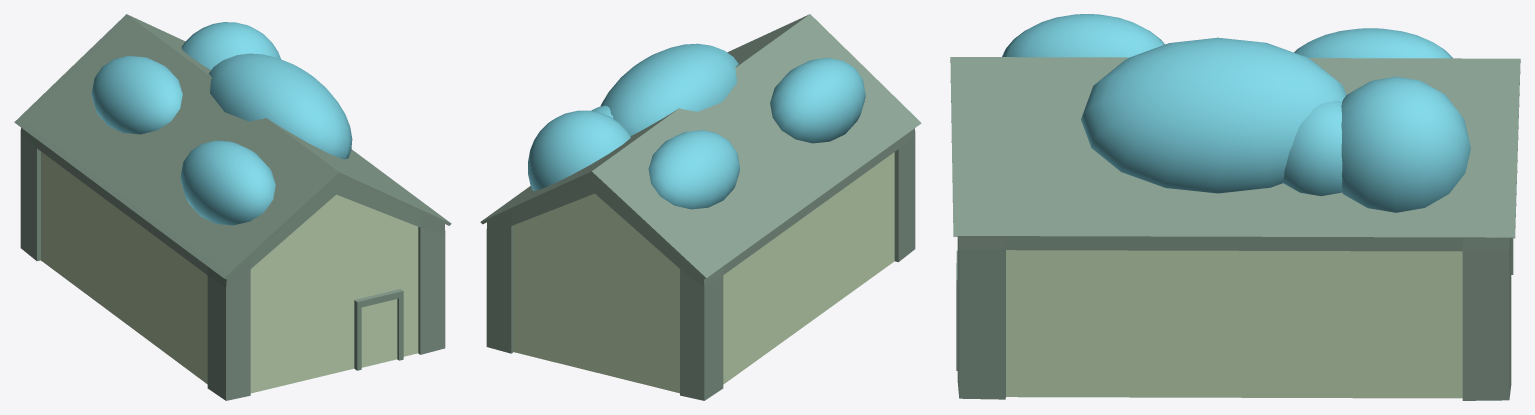
Rendered from BigHouseForestWhimsy.fbx.
The picture shows the model from 3 angles, left to right: view 1: azimuth 30°, elevation 25°; view 2: azimuth 150°, elevation 25°; view 3: azimuth 270°, elevation 25°; orthographic projection. The views are drawn at different scales.
Visible parts, largest first — view 1: BigHouseForestWhimsy; view 2: BigHouseForestWhimsy; view 3: BigHouseForestWhimsy.
Boxes of the visible parts, x1,y1,x2,y2 form: BigHouseForestWhimsy: (14,14,451,400); BigHouseForestWhimsy: (480,14,921,400); BigHouseForestWhimsy: (950,14,1520,400).
Bounding box in the file's own units: 9.71 × 15.78 × 9.23.
